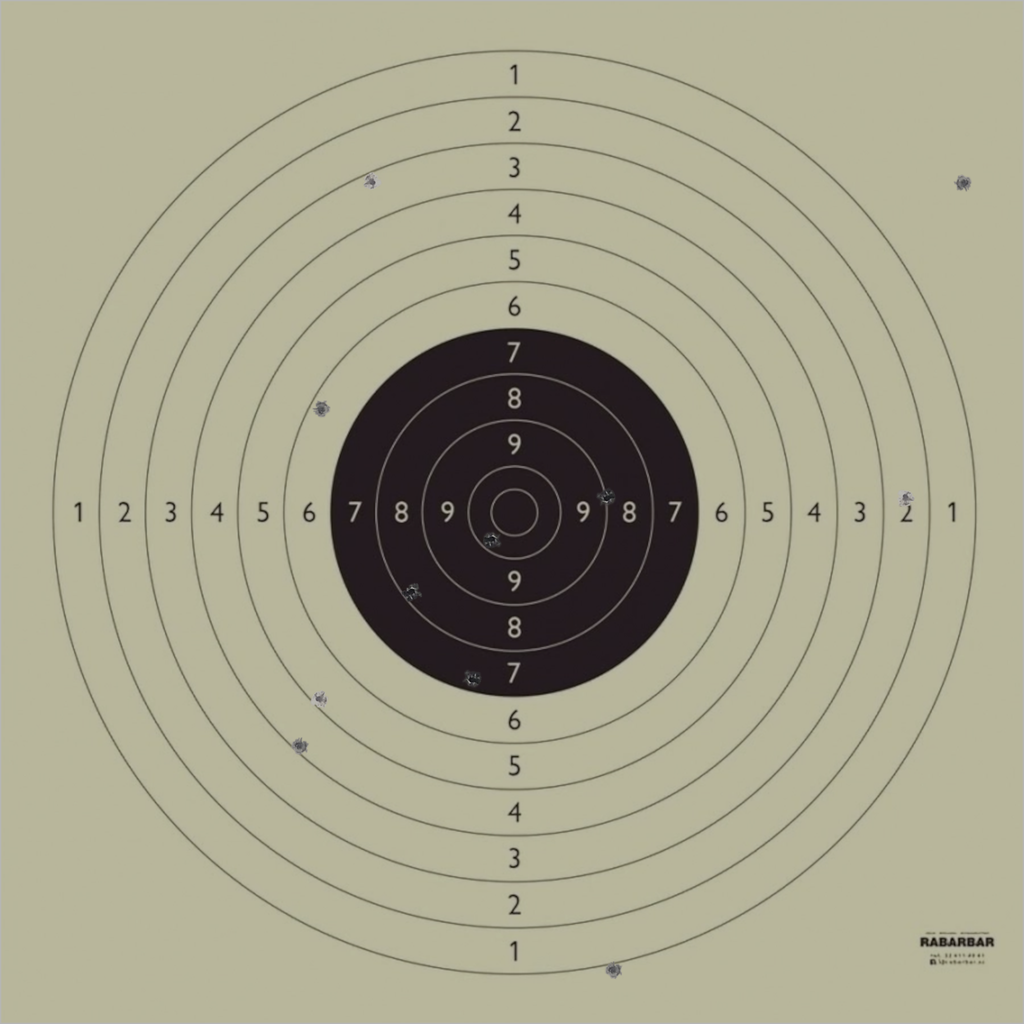0 punktow: (955, 174, 973, 192)
1 punkt: (604, 961, 622, 979)
10 punktow: (483, 530, 501, 549)
2 punkty: (896, 488, 915, 507)
3 punkty: (363, 173, 381, 191)
4 punkty: (290, 737, 309, 755)
5 punktow: (310, 690, 329, 708)
6 punktow: (312, 400, 331, 419)
7 punktow: (463, 670, 481, 689)
8 punktow: (402, 583, 421, 601)
9 punktow: (597, 489, 616, 507)
